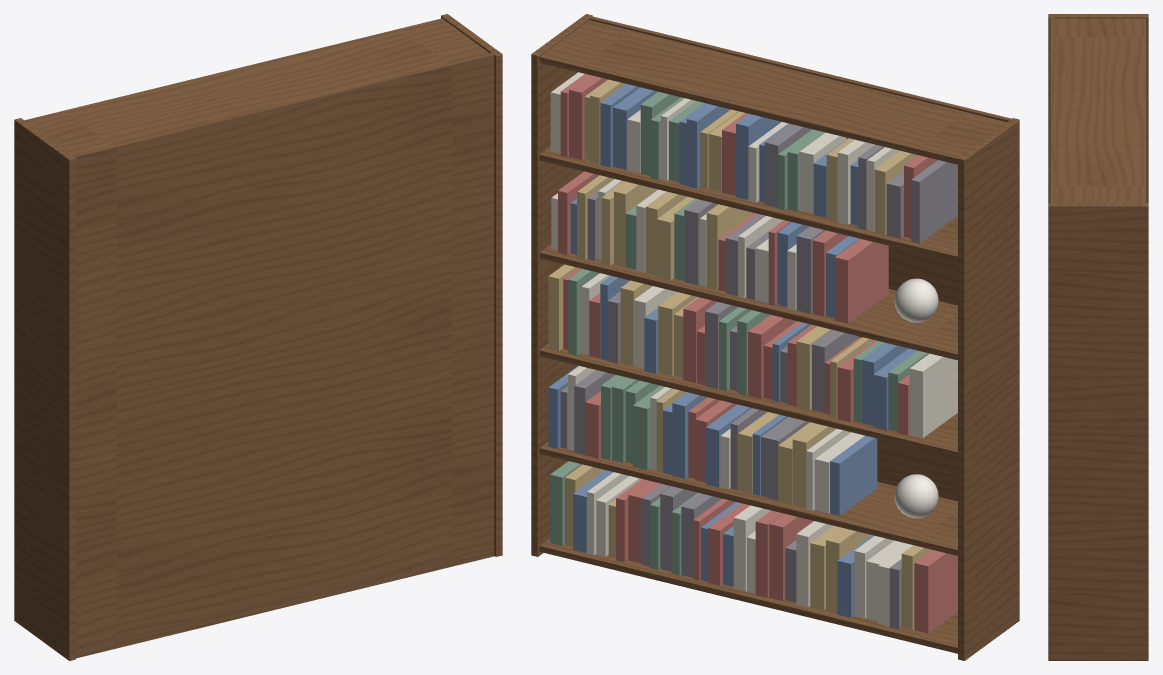
Rendered from consulta.libreria.fbx.
3 views of the same model, side by side, from view 1: azimuth 30°, elevation 25°; view 2: azimuth 150°, elevation 25°; view 3: azimuth 270°, elevation 25° (orthographic). The views are drawn at different scales.
Visible parts, largest first — view 1: Fondo, Lado.001, Repisa.005, Lado, Repisa, Repisa.001, Repisa.003, Repisa.002, Repisa.004; view 2: Lado.001, Repisa.005, Lado, Repisa.001, Fondo, Repisa.003, Repisa.002, Repisa.004, Repisa, Libro.120, Libro.092, Libro.031 (+128 smaller); view 3: Lado, Repisa.005, Lado.001, Fondo.
Part boxes in pixels (x1,y1,x2,y2): Fondo: (66,51,499,658); Lado.001: (14,118,75,660); Repisa.005: (24,18,489,162); Lado: (441,14,502,556); Repisa: (76,546,494,650); Repisa.001: (76,449,493,554); Repisa.003: (82,254,492,357); Repisa.002: (107,352,493,449); Repisa.004: (76,158,486,261); Lado.001: (958,118,1019,660); Repisa.005: (539,20,1006,164); Lado: (531,14,592,556); Repisa.001: (539,442,957,555); Fondo: (584,15,1016,501); Repisa.003: (539,244,957,360); Repisa.002: (539,344,957,457); Repisa.004: (539,146,957,262); Repisa: (539,538,957,653); Libro.120: (835,239,888,323); Libro.092: (909,353,957,438); Libro.031: (914,550,957,633); Lado: (1048,203,1148,660); Repisa.005: (1055,18,1146,202); Lado.001: (1048,14,1148,202); Fondo: (1050,14,1055,205).
Size of the model in its own units: 1.81 by 2 by 0.4.
Materials: 158 (1 with a texture image).
